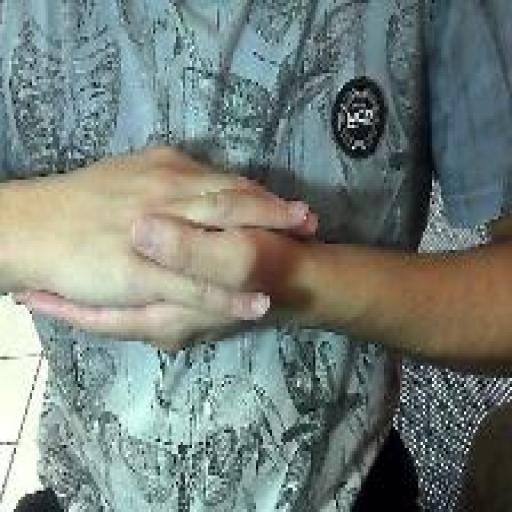Saru -monkey-: (8, 139, 326, 364)
